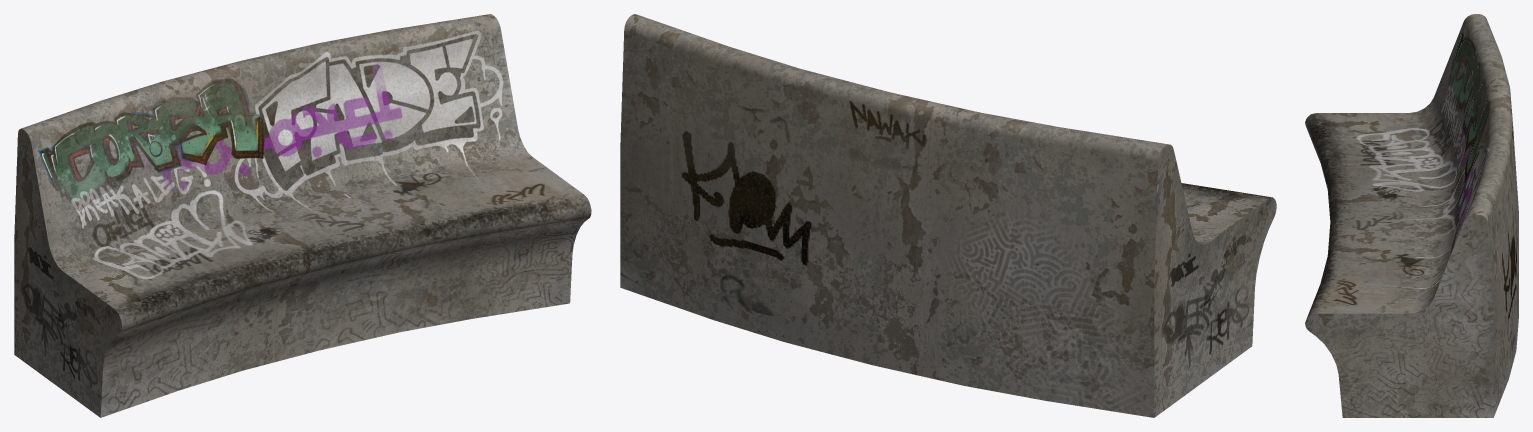
File: concrete_bench_with_graffiti.glb
3 views of the same model, side by side, from view 1: azimuth 30°, elevation 25°; view 2: azimuth 150°, elevation 25°; view 3: azimuth 270°, elevation 25° (orthographic). The views are drawn at different scales.
Visible parts, largest first — view 1: Bench; view 2: Bench; view 3: Bench.
Part boxes in pixels (x1,y1,x2,y2): Bench: (14,14,591,417); Bench: (620,14,1276,417); Bench: (1305,14,1518,417).
Bounding box in the file's own units: 1.16 × 0.5468 × 0.5217.
Materials: 1 (1 with a texture image).
